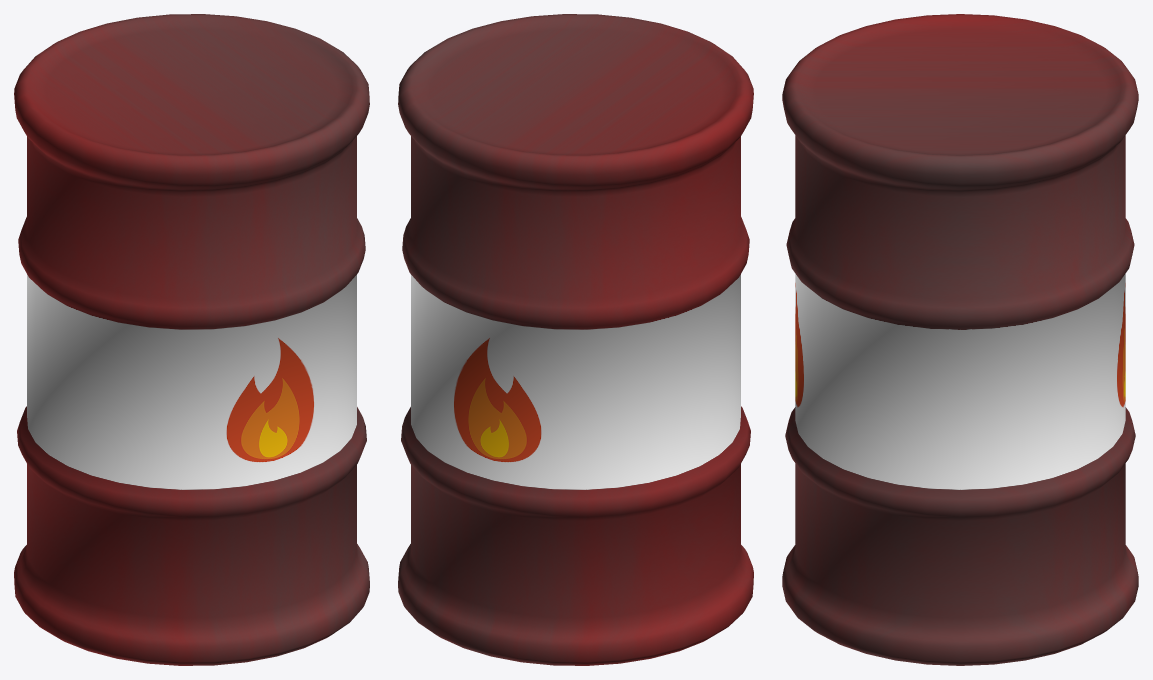
The model's file is FireBarrel.fbx.
The picture shows the model from 3 angles, left to right: view 1: azimuth 30°, elevation 25°; view 2: azimuth 150°, elevation 25°; view 3: azimuth 270°, elevation 25°; orthographic projection.
Visible parts, largest first — view 1: OilBarrelFire; view 2: OilBarrelFire; view 3: OilBarrelFire.
Boxes of the visible parts, left/top/right/bottom form: OilBarrelFire: left=14, top=14, right=369, bottom=665; OilBarrelFire: left=398, top=14, right=753, bottom=665; OilBarrelFire: left=782, top=14, right=1138, bottom=665.
Size of the model in its own units: 144 by 226 by 144.
1 material, 1 textured.
